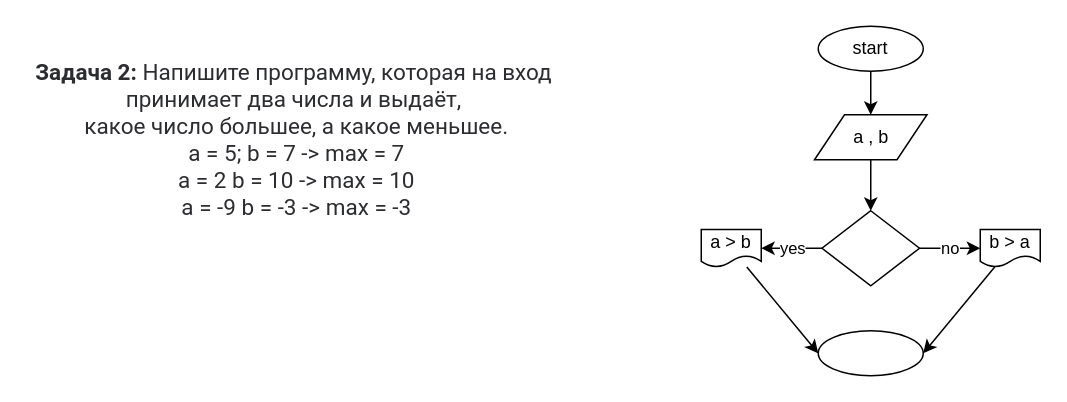
This 1067x402 diagram has some shape labels left out. The shapes that lost their labels are listed below. From the top down, each one's box as (x1, y1, x2, y2) in pixels, then its label:
(820, 209, 920, 286): a >b
(817, 329, 923, 376): end
